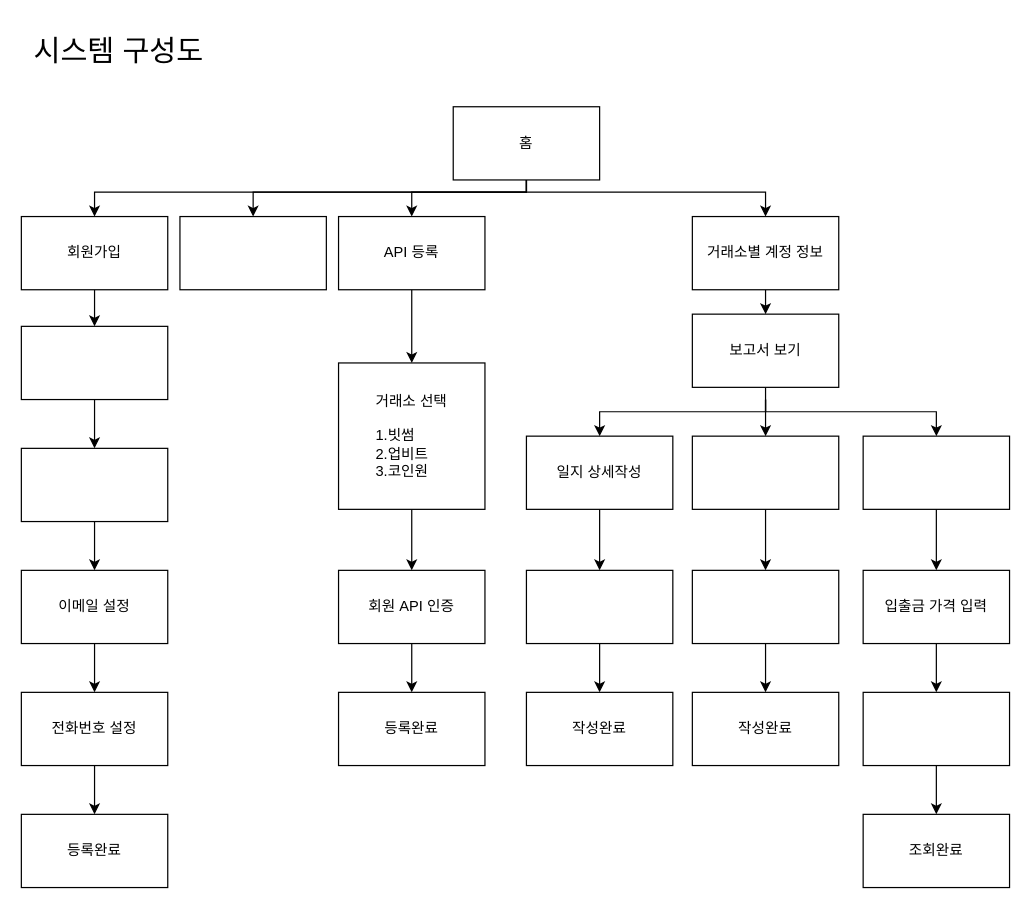
Image size: 1031x909. Some labels were removed from this diagram. The box of each missing label's shape, as (x1, y1, x2, y2) in pixels:
Text 및 파일 첨부: (691, 569, 839, 644)
Text 입력: (525, 569, 673, 644)
로그인: (179, 215, 326, 290)
비밀번호 설정: (20, 447, 168, 522)
상세작성: (691, 435, 839, 509)
수익률보기: (862, 691, 1010, 766)
아이디 중복확인: (20, 325, 168, 400)
이전 데이터 파일 첨부: (862, 435, 1010, 509)
